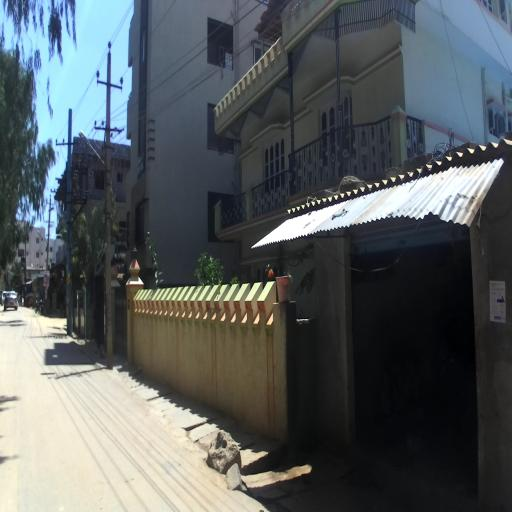street_light_0: (78, 130, 112, 191)
